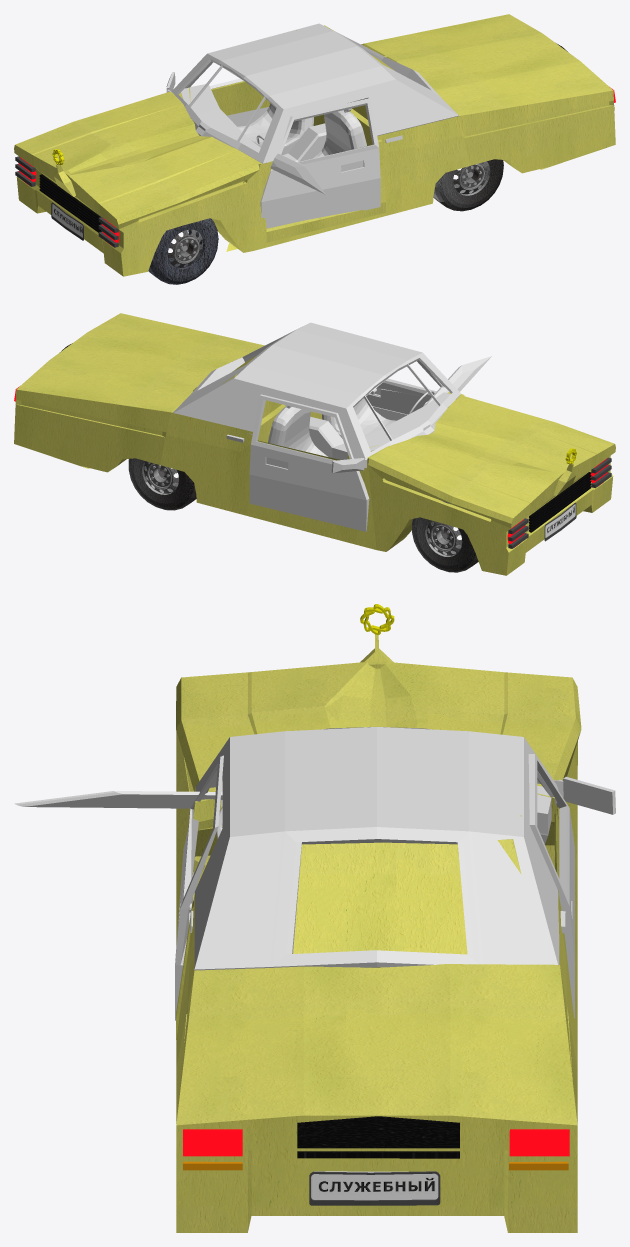
The model's file is car.fbx.
3 views of the same model, one above another, from view 1: azimuth 30°, elevation 25°; view 2: azimuth 150°, elevation 25°; view 3: azimuth 270°, elevation 25° (orthographic). The views are drawn at different scales.
Parts seen in each view (by area): view 1: Cube.002, Cube.003, Cube.031, Cylinder.001, Cube.007, Cylinder.003, Cube.009, Cube.052, Cube.053, Cube.036, Cube.032, bump_front_ok.001; view 2: Cube.002, Cube.003, Cube.032, Cylinder.002, Cylinder.004, Cube.007, Cube.031, Cube.052, Cube.009, Cube.036, Cube.053, bump_front_ok.001 (+1 smaller); view 3: Cube.002, Cube.003, Cube.035, bump_front_ok.002, Cube.032, Cube.031, Cube.053, Cube.034, Cube.033, Cube.055.
Part boxes in pixels (x1,y1,x2,y2): Cube.002: [14, 14, 615, 276]; Cube.003: [171, 23, 458, 163]; Cube.031: [260, 98, 380, 228]; Cylinder.001: [148, 218, 218, 284]; Cube.007: [181, 84, 326, 161]; Cylinder.003: [433, 159, 503, 211]; Cube.009: [313, 108, 366, 158]; Cube.052: [238, 103, 313, 154]; Cube.053: [251, 140, 325, 194]; Cube.036: [15, 156, 118, 247]; Cube.032: [186, 61, 268, 126]; bump_front_ok.001: [51, 202, 83, 240]; Cube.002: [14, 313, 615, 575]; Cube.003: [173, 322, 460, 458]; Cube.032: [249, 394, 369, 531]; Cylinder.002: [412, 501, 478, 572]; Cylinder.004: [128, 458, 196, 510]; Cube.007: [309, 392, 450, 459]; Cube.031: [366, 372, 443, 420]; Cube.052: [268, 406, 327, 456]; Cube.009: [322, 398, 396, 438]; Cube.036: [508, 457, 611, 548]; Cube.053: [423, 356, 491, 406]; bump_front_ok.001: [544, 503, 576, 541]; Cube.002: [176, 634, 581, 1232]; Cube.003: [194, 727, 559, 970]; Cube.035: [297, 1116, 459, 1158]; bump_front_ok.002: [309, 1171, 440, 1205]; Cube.032: [528, 754, 574, 1018]; Cube.031: [175, 755, 223, 1020]; Cube.053: [14, 791, 222, 808]; Cube.034: [509, 1129, 569, 1156]; Cube.033: [183, 1129, 242, 1156]; Cube.055: [554, 776, 615, 814].
Size of the model in its own units: 484 by 135 by 257.
